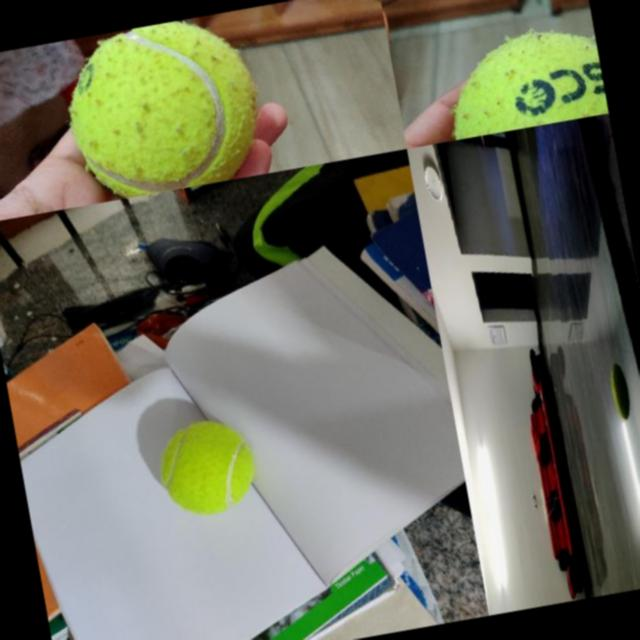tennis-ball: (54, 9, 270, 204), (436, 19, 607, 140), (152, 412, 260, 522), (606, 360, 632, 420)
